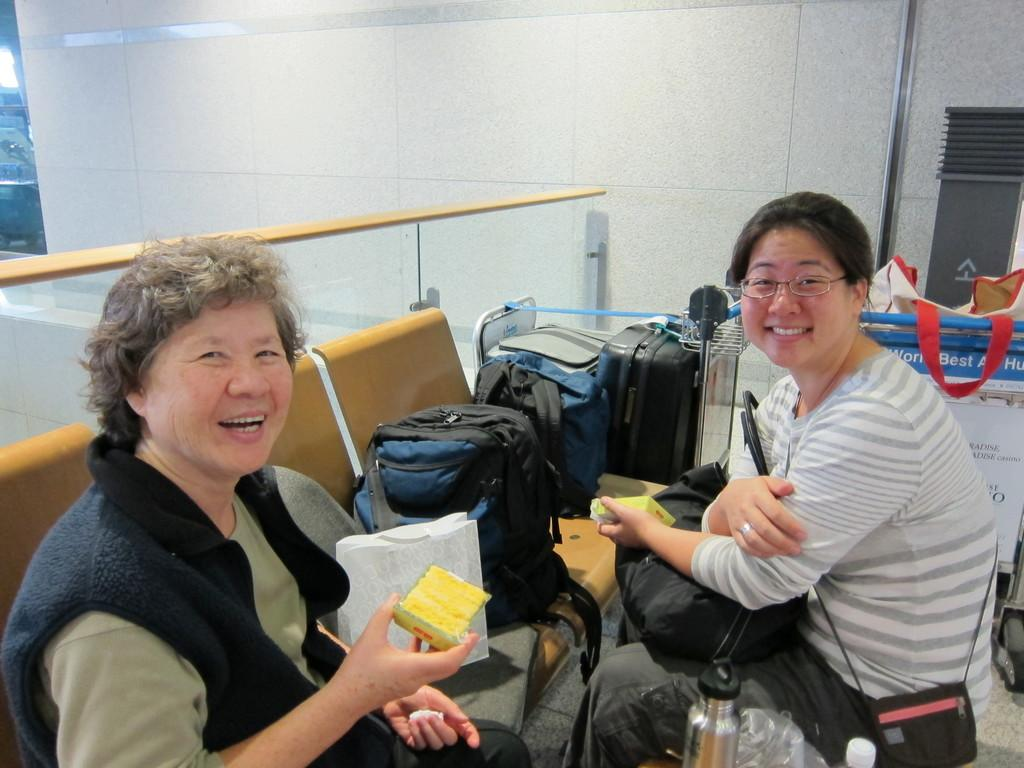Luggage-and-bags: (598, 468, 886, 767), (335, 397, 611, 693), (469, 348, 609, 520), (862, 255, 1023, 403), (592, 316, 698, 478)
